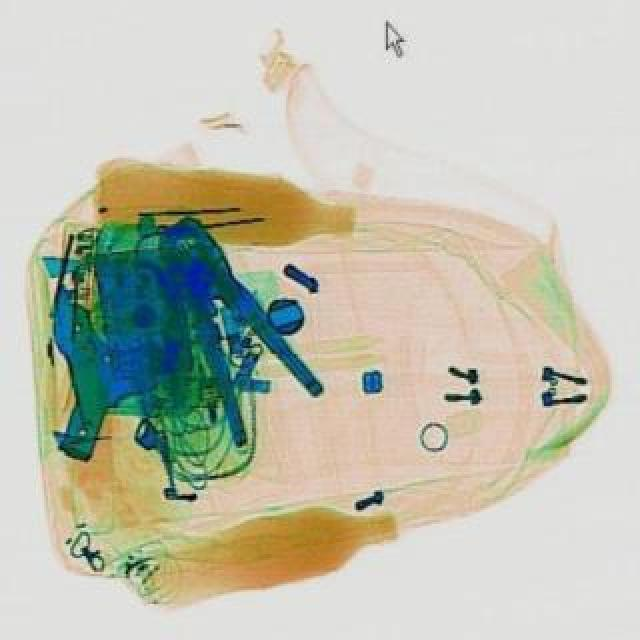wrench: (122, 196, 334, 446)
